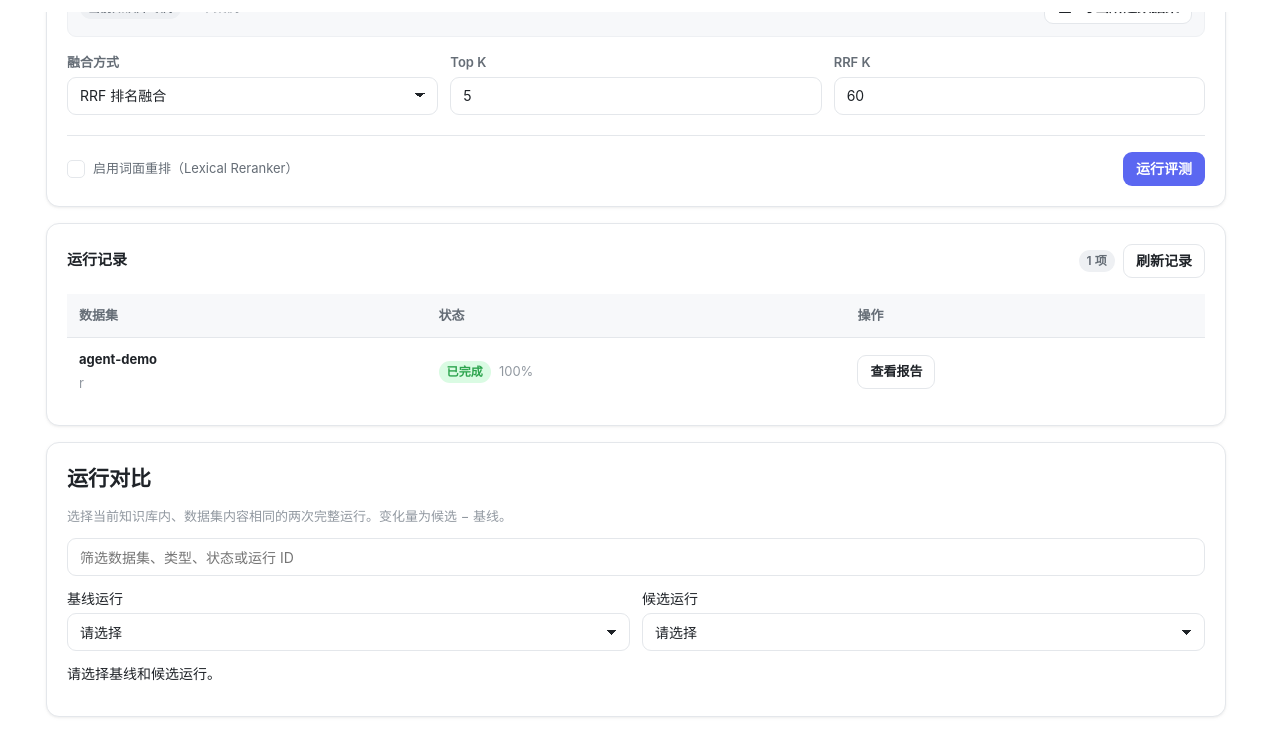
Scenario: renders report percentages, unavailable metrics and localized terminal states
(page scrolled)
Click the button "查看报告": [896, 372] box x1=857 y1=355 x2=935 y2=389
(page scrolled)
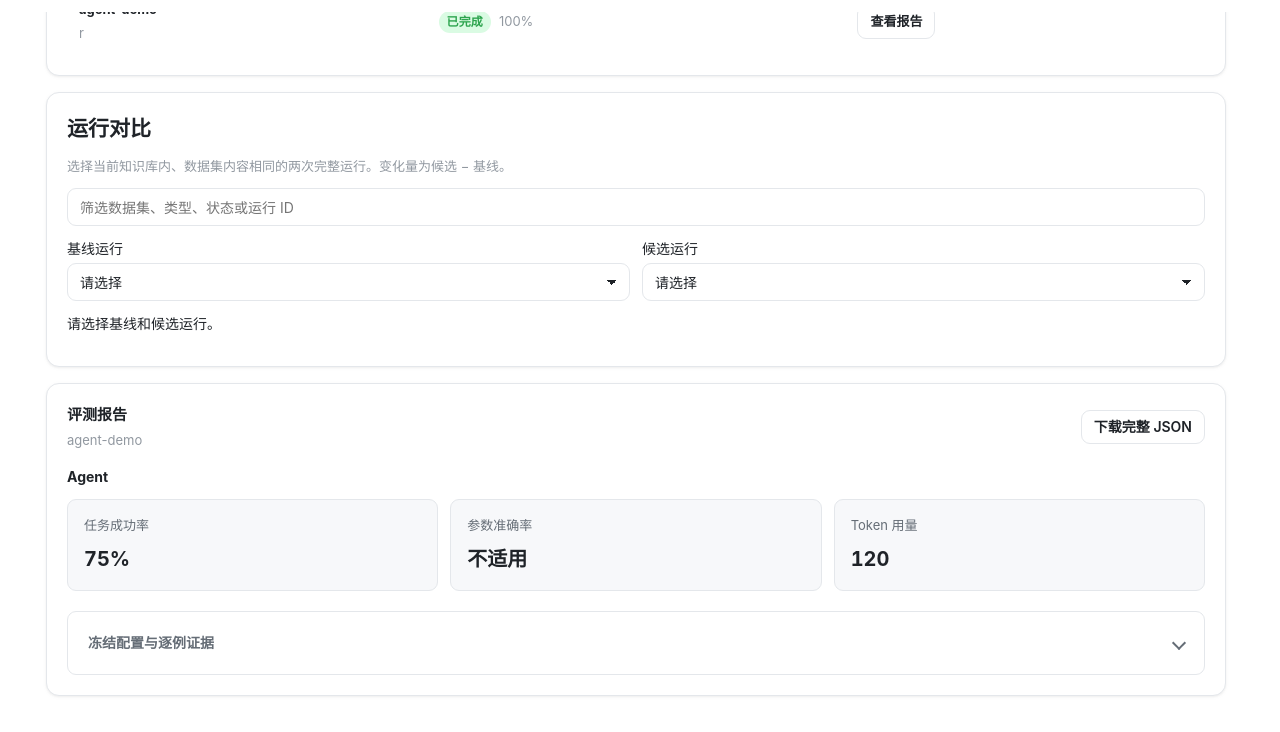
Expected: the element with class "benchmark-report" shows "75%", x1=84 y1=547 x2=130 y2=571
Expected: the element with class "benchmark-report" shows "不适用", x1=467 y1=547 x2=527 y2=571
Expected: the element with class "benchmark-report" shows "agent-demo", x1=67 y1=432 x2=142 y2=448
